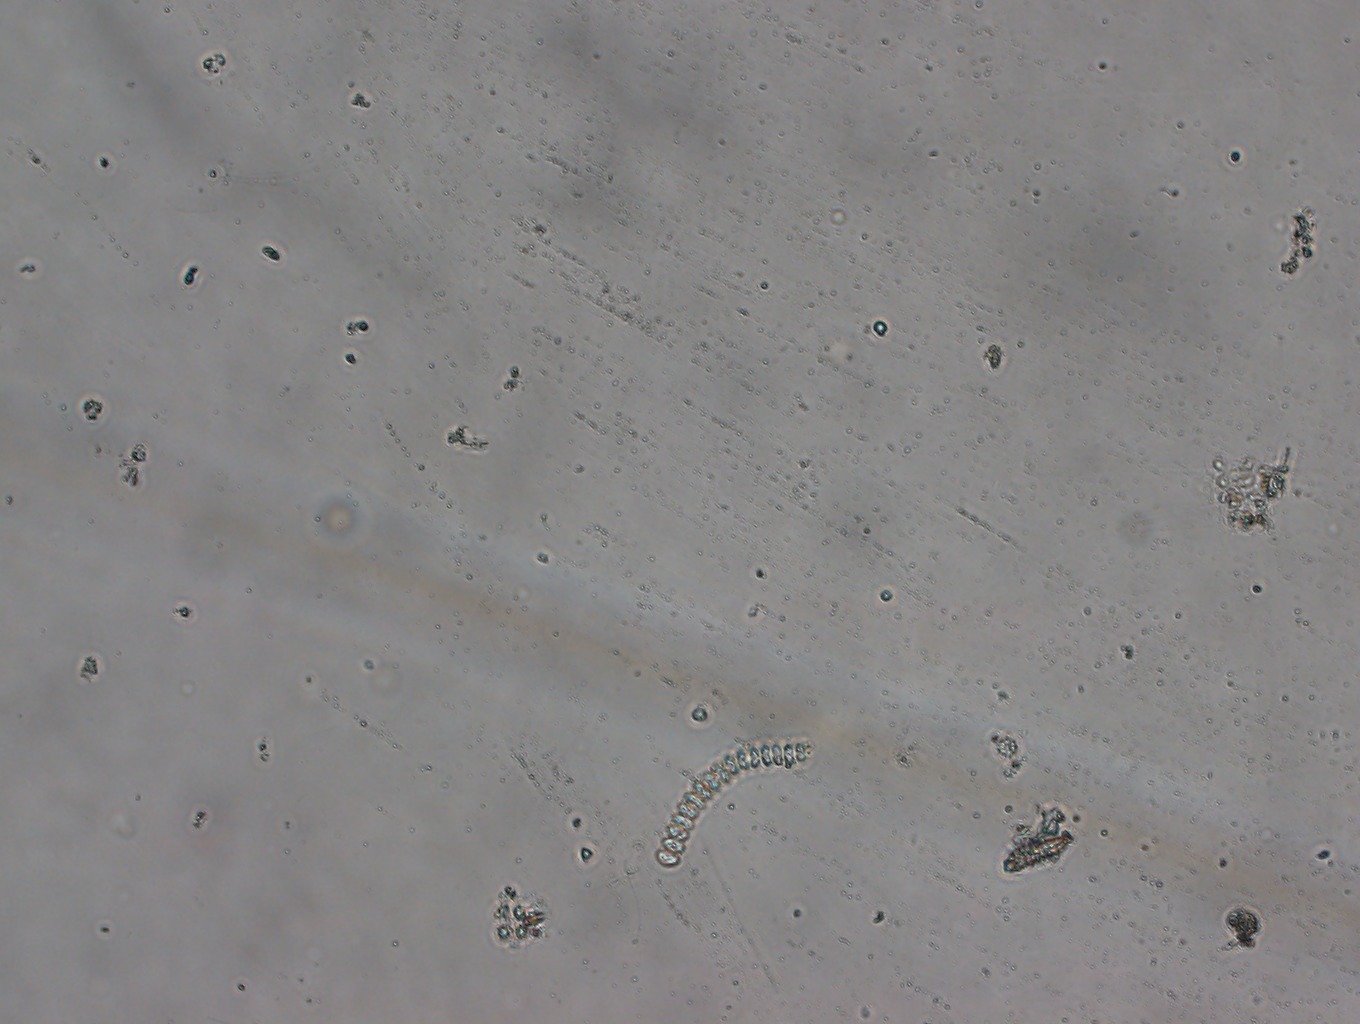skeletonema: (642, 728, 820, 879)
